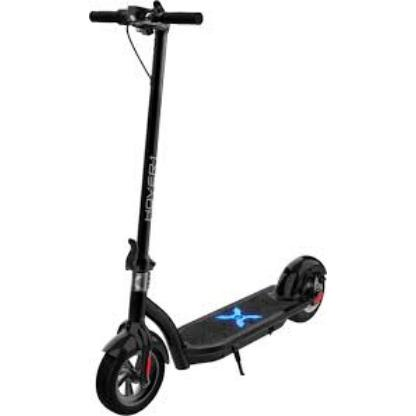bike: (93, 3, 329, 416), (94, 170, 328, 416), (94, 249, 328, 416)
